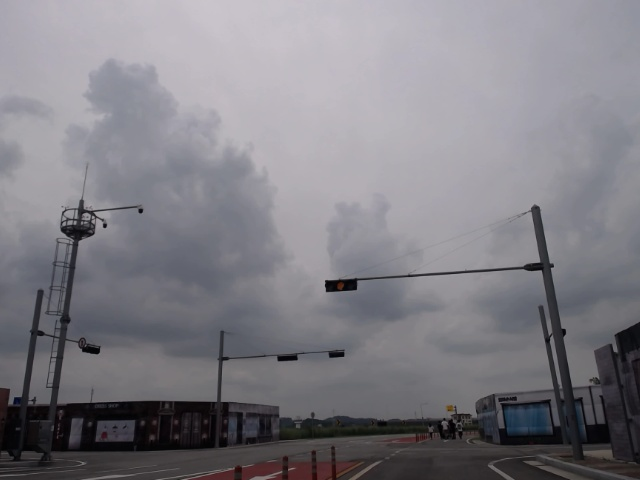orange_3: (325, 278, 357, 293)
